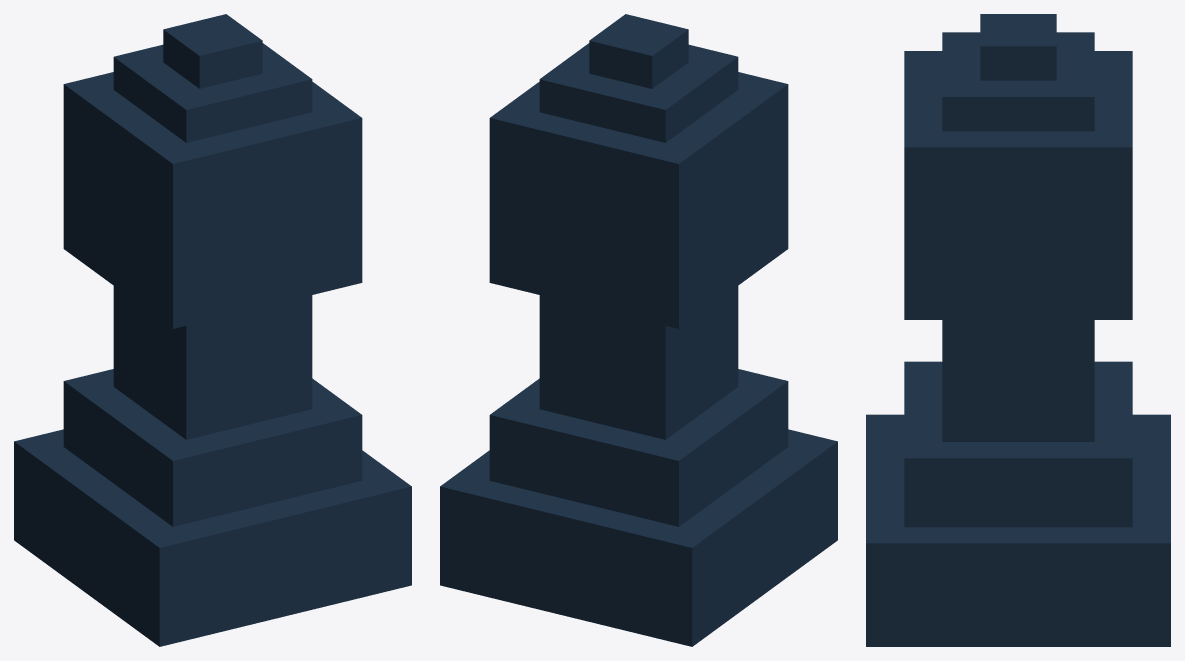
The model's file is token-v3-blue.gltf.
The picture shows the model from 3 angles, left to right: view 1: azimuth 30°, elevation 25°; view 2: azimuth 150°, elevation 25°; view 3: azimuth 270°, elevation 25°; orthographic projection. The views are drawn at different scales.
Visible parts, largest first — view 1: Untitled; view 2: Untitled; view 3: Untitled.
Boxes of the visible parts, box(x1,y1,x2,y2) form: Untitled: box(14, 14, 411, 646); Untitled: box(440, 14, 837, 646); Untitled: box(866, 14, 1170, 646).
Bounding box in the file's own units: 0.8 × 1.6 × 0.8.
1 material, 1 textured.
